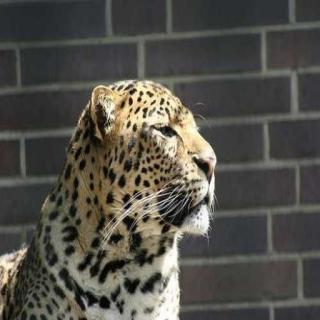Leopard: (68, 73, 245, 320)
